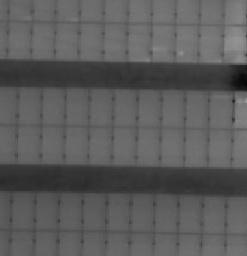solar: (5, 19, 34, 60), (29, 18, 58, 59), (52, 19, 81, 60), (77, 19, 106, 60), (101, 19, 130, 60), (126, 20, 155, 61), (149, 21, 178, 62), (173, 22, 202, 63), (196, 22, 225, 63), (15, 84, 44, 125), (39, 84, 68, 125), (63, 86, 92, 127), (87, 86, 116, 127), (111, 87, 140, 128), (136, 87, 165, 128), (159, 87, 188, 128), (181, 88, 210, 129), (208, 88, 237, 129), (13, 123, 42, 164), (38, 123, 67, 164), (62, 123, 91, 164), (86, 125, 115, 166), (110, 125, 139, 166), (134, 125, 163, 166), (157, 126, 186, 167), (181, 126, 210, 167), (207, 126, 236, 167), (9, 190, 38, 231), (33, 190, 62, 231), (56, 190, 85, 231), (80, 190, 109, 231), (103, 191, 132, 232), (127, 191, 156, 232), (152, 192, 181, 233), (176, 194, 205, 235), (201, 194, 230, 235)
